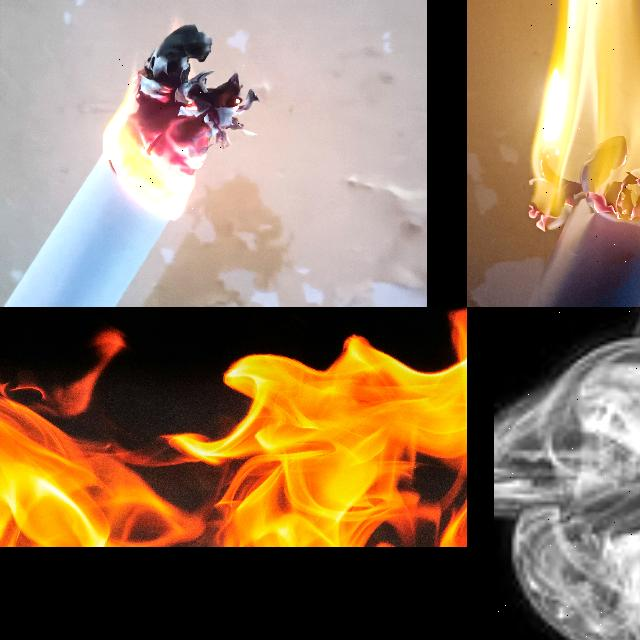fire: (104, 24, 256, 220), (530, 0, 640, 231)
smoke: (493, 323, 640, 640)
